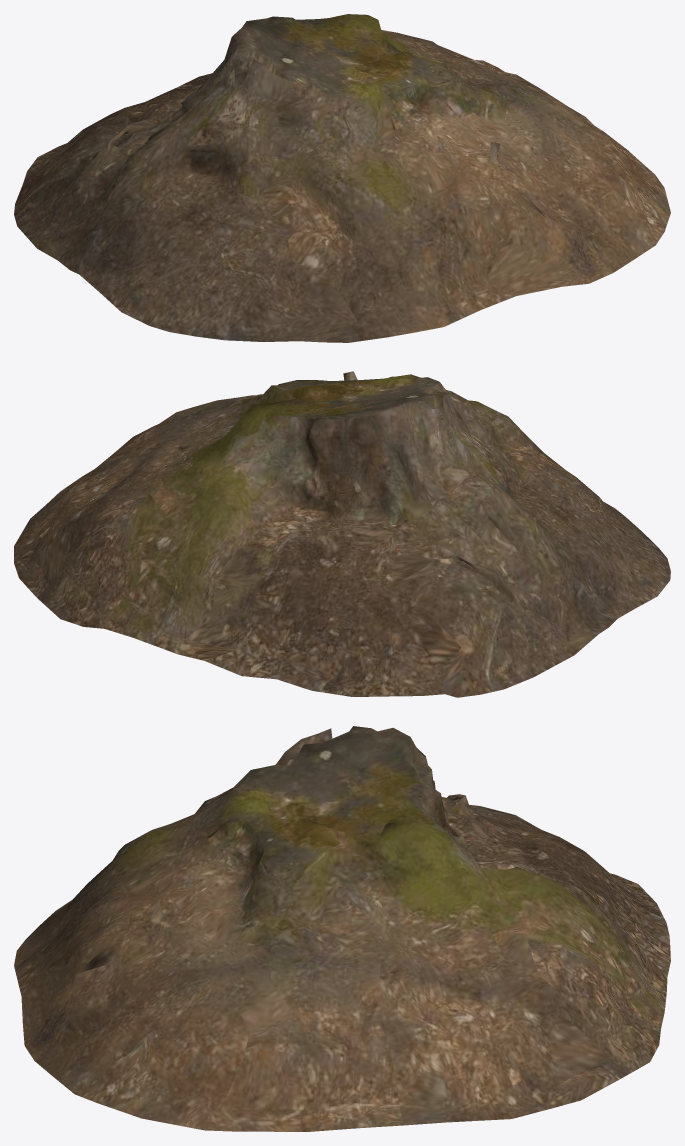
Rendered from tree_stump_02.glb.
3 views of the same model, one above another, from view 1: azimuth 30°, elevation 25°; view 2: azimuth 150°, elevation 25°; view 3: azimuth 270°, elevation 25° (orthographic). The views are drawn at different scales.
Parts seen in each view (by area): view 1: tree_stump_02; view 2: tree_stump_02; view 3: tree_stump_02.
Boxes of the visible parts, x1,y1,x2,y2 form: tree_stump_02: [14, 14, 670, 342]; tree_stump_02: [14, 371, 670, 697]; tree_stump_02: [14, 726, 670, 1131].
Bounding box in the file's own units: 1.52 × 0.5191 × 1.4.
1 material, 1 textured.
